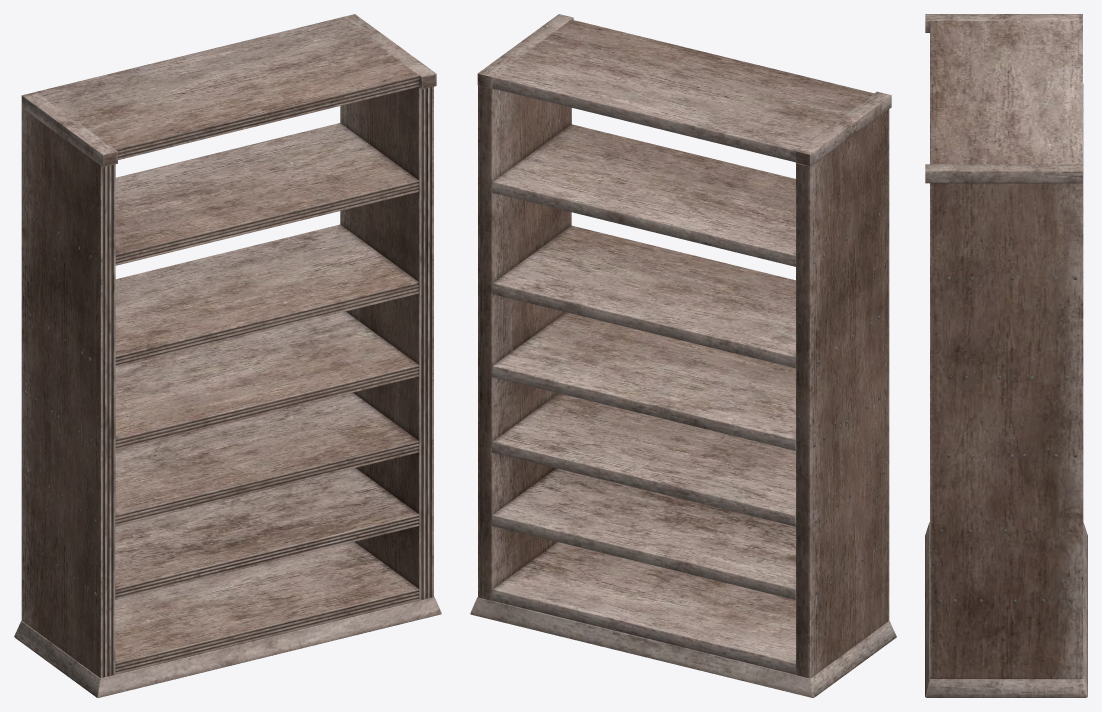
The model's file is bookshelf.glb.
3 renders of one model, left to right at view 1: azimuth 30°, elevation 25°; view 2: azimuth 150°, elevation 25°; view 3: azimuth 270°, elevation 25°, orthographic. The views are drawn at different scales.
Visible parts, largest first — view 1: bookshelf; view 2: bookshelf; view 3: bookshelf.
Boxes of the visible parts, x1,y1,x2,y2 form: bookshelf: (14,14,441,697); bookshelf: (470,14,896,697); bookshelf: (925,14,1087,697).
Size of the model in its own units: 1.37 by 2.06 by 0.5811.
Materials: 1 (1 with a texture image).
